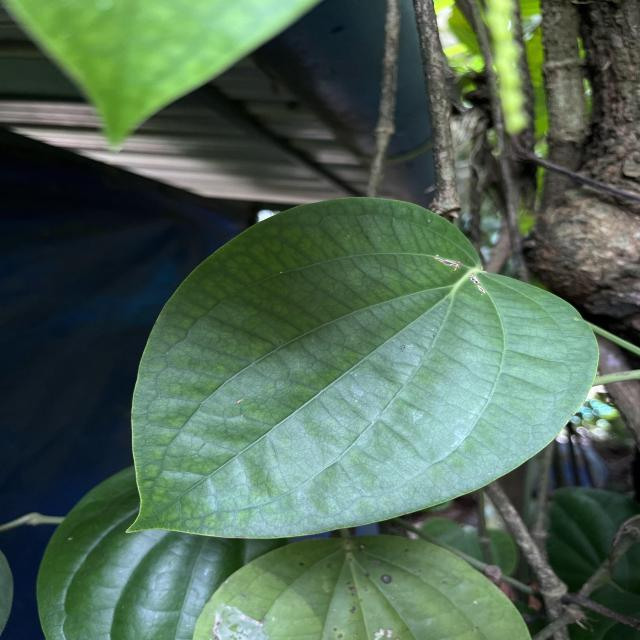Piper nigrum: (119, 191, 600, 541)
